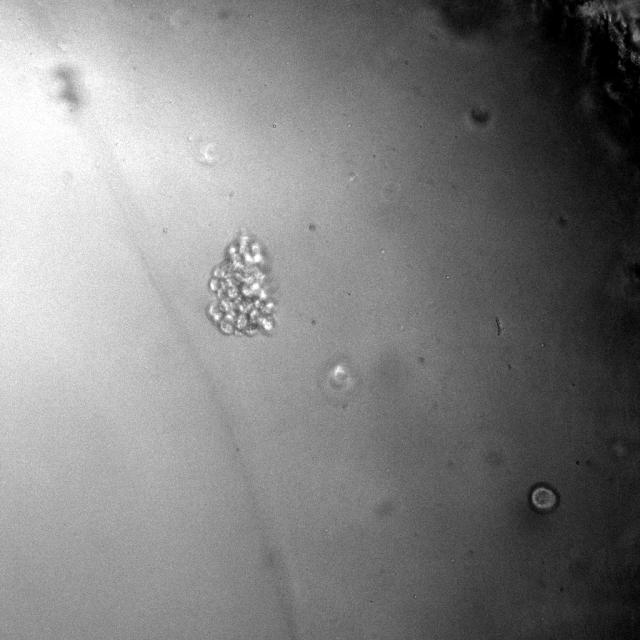organoid: (207, 232, 276, 336), (529, 483, 559, 512)
